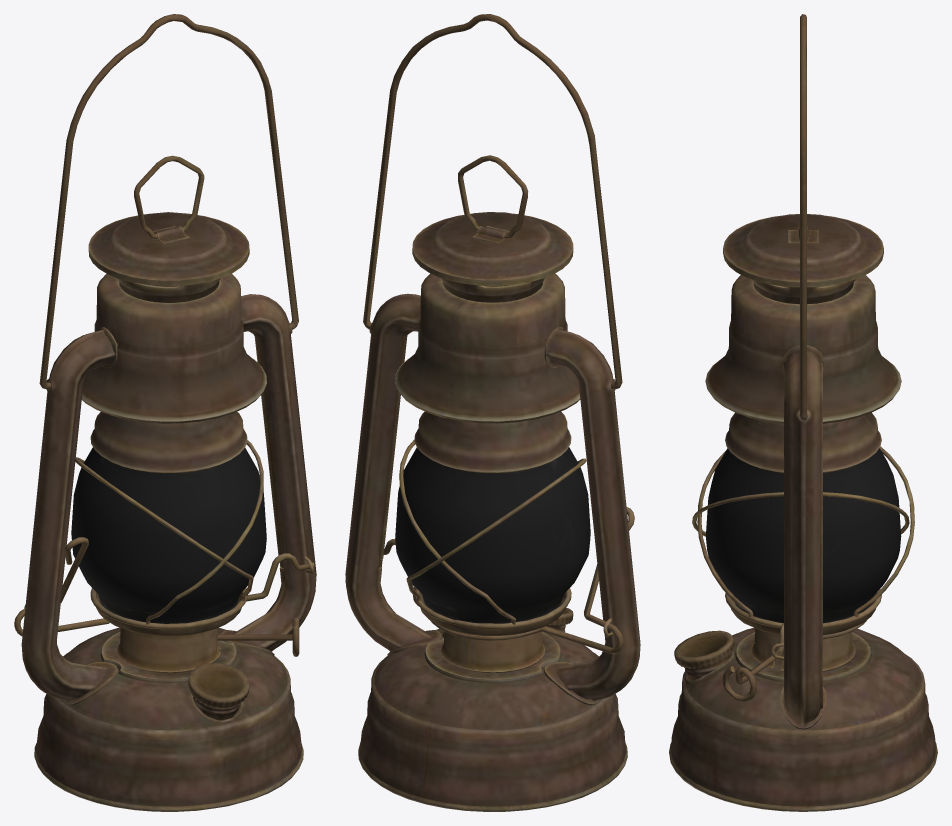
The model's file is lantern.glb.
3 renders of one model, left to right at view 1: azimuth 30°, elevation 25°; view 2: azimuth 150°, elevation 25°; view 3: azimuth 270°, elevation 25°, orthographic.
Parts seen in each view (by area): view 1: Lantern_01, Lantern_01_glass; view 2: Lantern_01, Lantern_01_glass; view 3: Lantern_01, Lantern_01_glass.
Boxes of the visible parts, box(x1,y1,x2,y2) form: Lantern_01: box(14, 14, 316, 811); Lantern_01_glass: box(71, 447, 266, 623); Lantern_01: box(345, 14, 640, 811); Lantern_01_glass: box(395, 447, 590, 623); Lantern_01: box(669, 14, 937, 811); Lantern_01_glass: box(705, 448, 901, 623).
Size of the model in its own units: 0.1221 by 0.2942 by 0.0971.
Materials: 2 (2 with a texture image).
